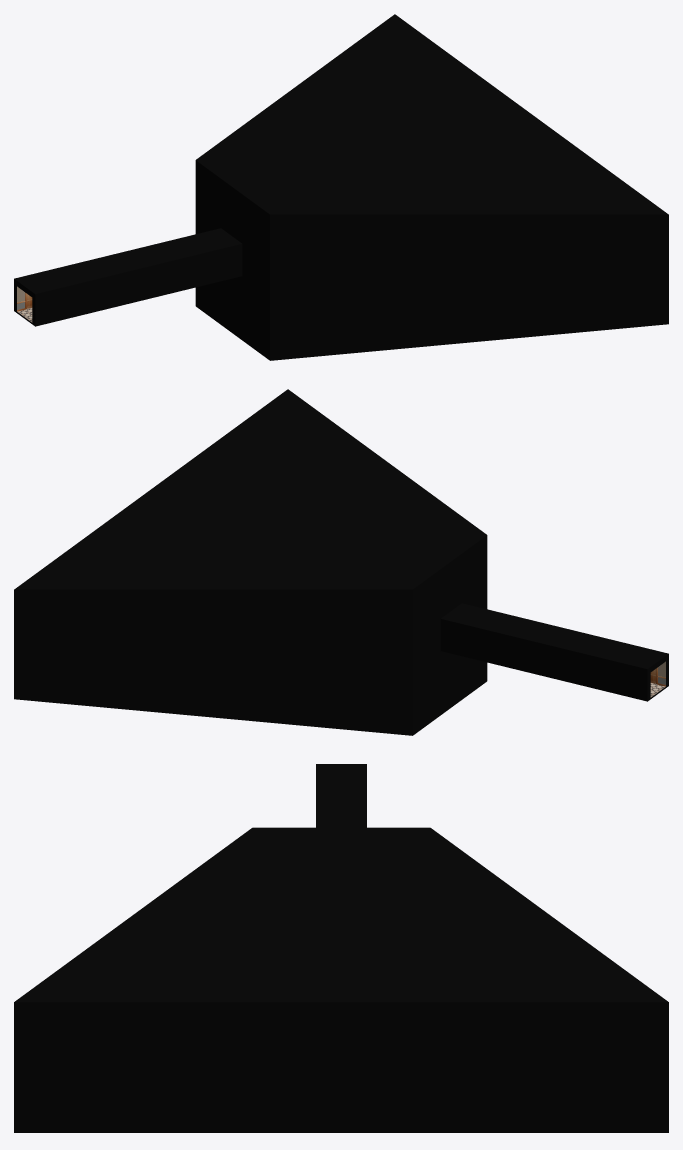
Rendered from main1.fbx_Collection_1.fbx.
The picture shows the model from 3 angles, top to bottom: view 1: azimuth 30°, elevation 25°; view 2: azimuth 150°, elevation 25°; view 3: azimuth 270°, elevation 25°; orthographic projection. The views are drawn at different scales.
Visible parts, largest first — view 1: Material2.003; view 2: Material2.003; view 3: Material2.003.
Boxes of the visible parts, box(x1,y1,x2,y2) form: Material2.003: box(14, 14, 668, 360); Material2.003: box(14, 389, 668, 735); Material2.003: box(14, 764, 668, 1132).
Bounding box in the file's own units: 16317 × 4492 × 15266.
Materials: 17 (12 with a texture image).
